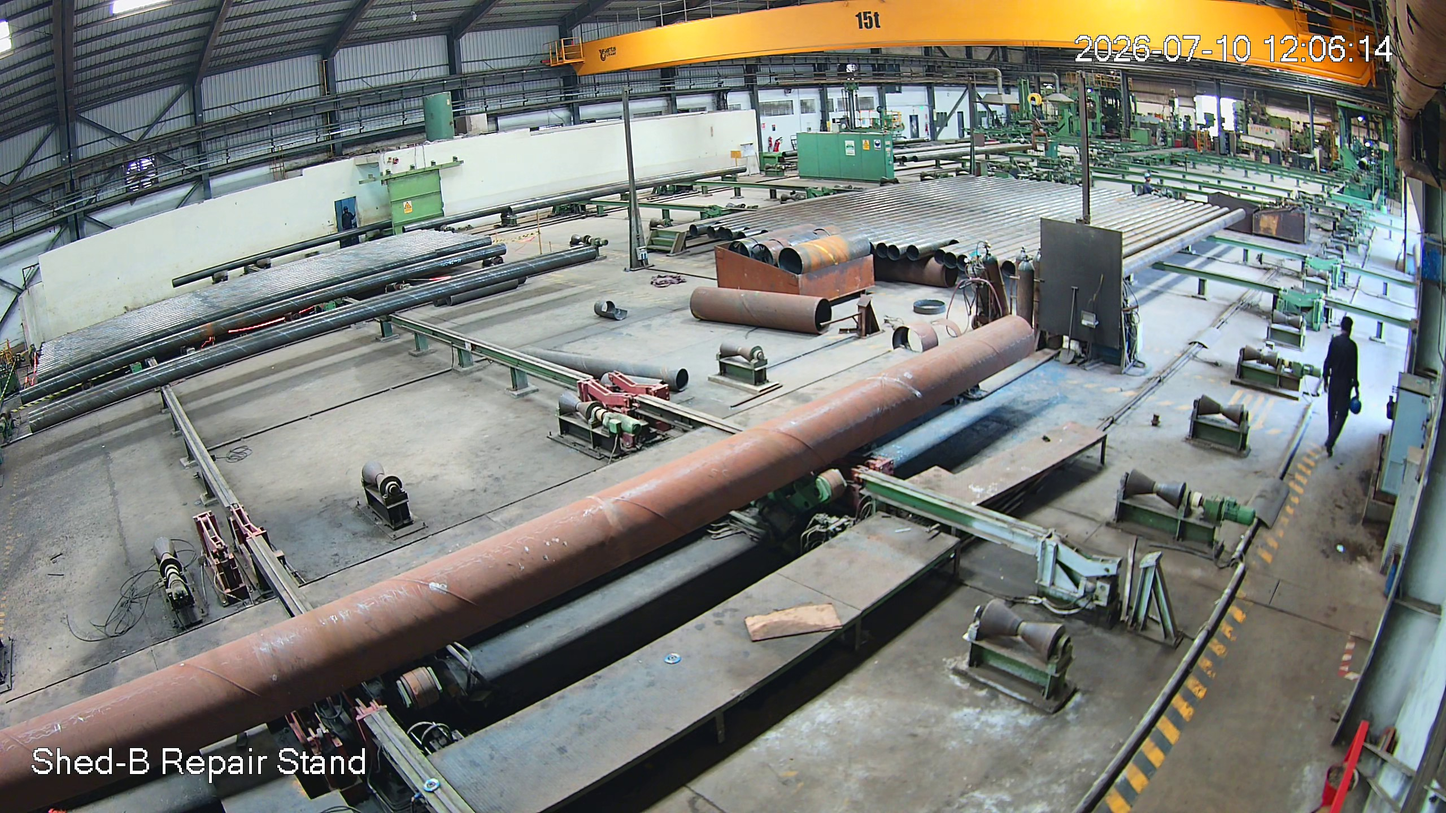Person: (1320, 315, 1361, 475)
